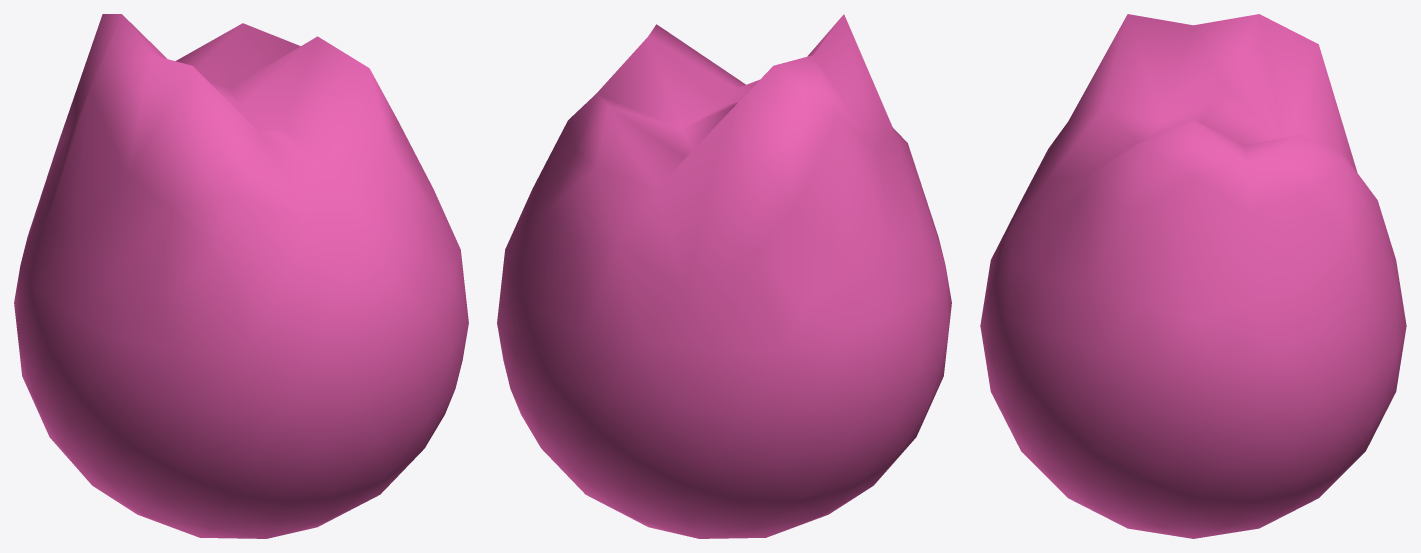
Rendered from rabbitTail.fbx.
3 views of the same model, side by side, from view 1: azimuth 30°, elevation 25°; view 2: azimuth 150°, elevation 25°; view 3: azimuth 270°, elevation 25° (orthographic). The views are drawn at different scales.
Parts seen in each view (by area): view 1: Rabbit Tail; view 2: Rabbit Tail; view 3: Rabbit Tail.
Boxes of the visible parts, bbox=[...] form: Rabbit Tail: bbox=[14, 14, 468, 538]; Rabbit Tail: bbox=[497, 14, 951, 538]; Rabbit Tail: bbox=[980, 14, 1406, 538].
Bounding box in the file's own units: 19.77 × 23.88 × 19.77.
